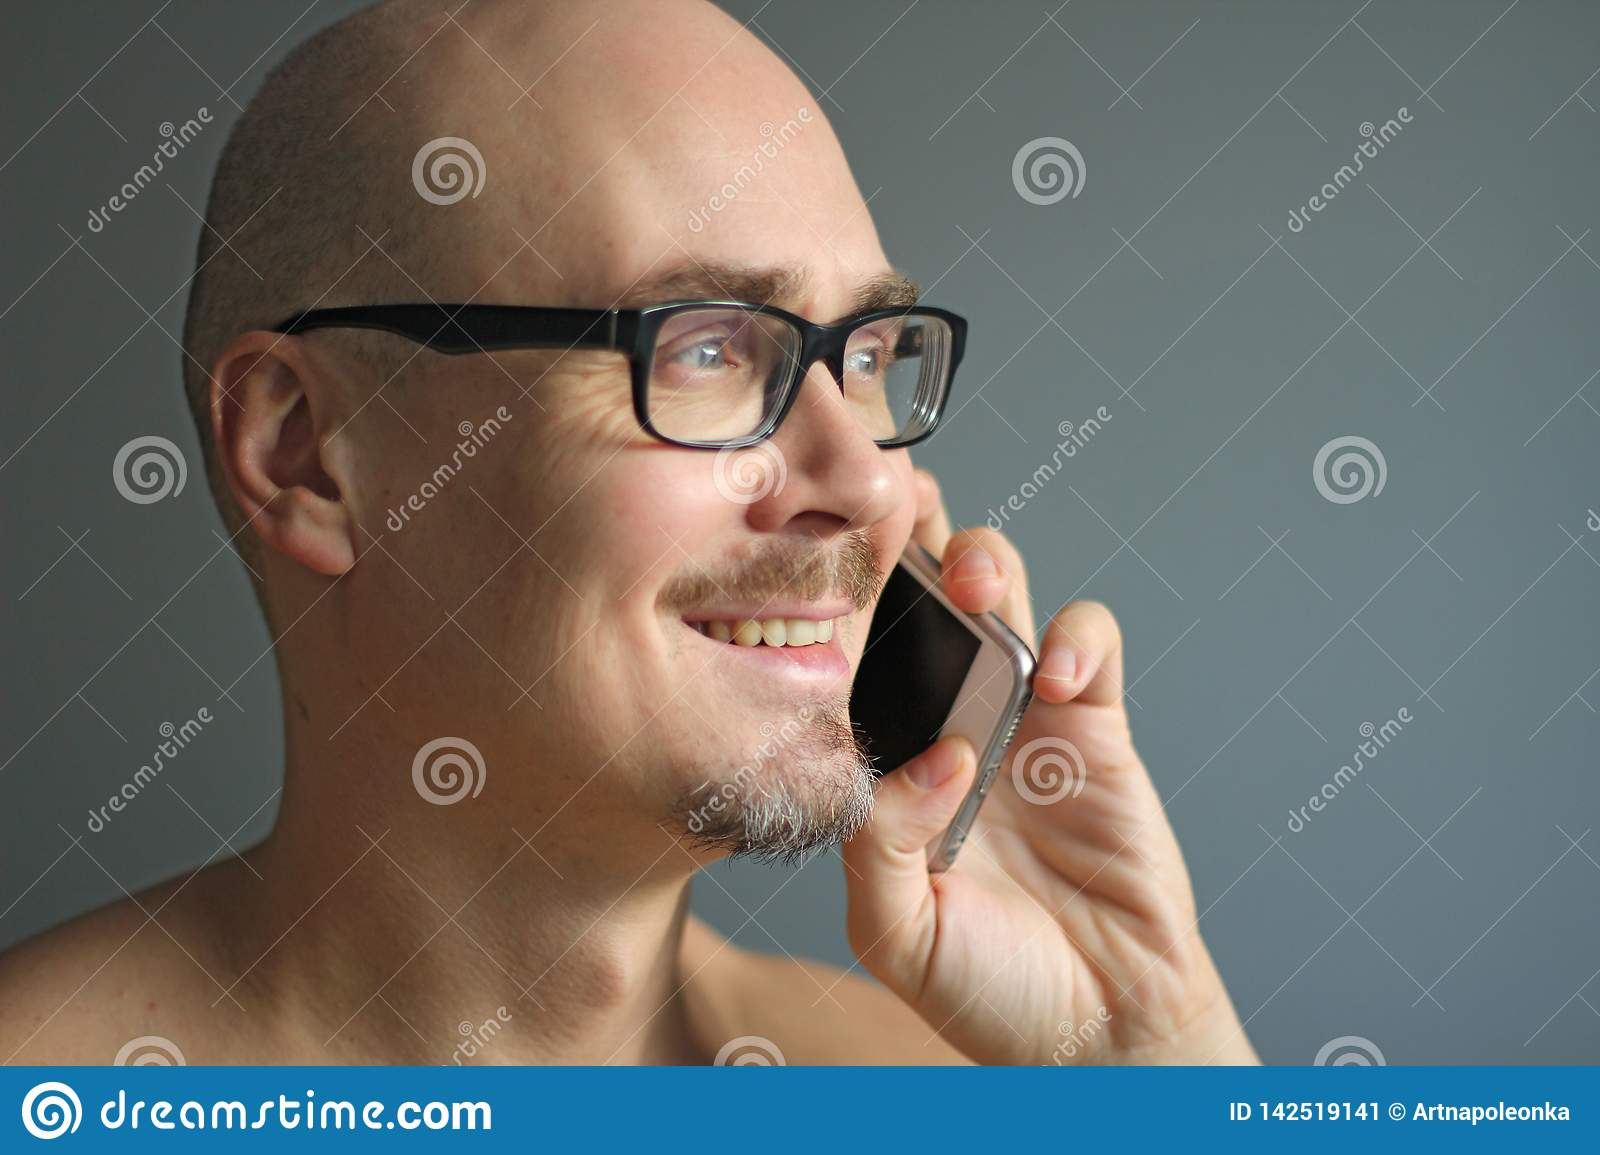phone: (853, 551, 1037, 877)
talk: (568, 243, 1263, 1069)
